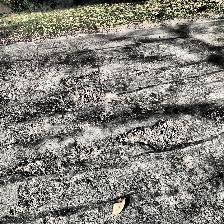pothole: (116, 118, 187, 150), (44, 86, 114, 110), (60, 70, 108, 86), (94, 111, 108, 123)
